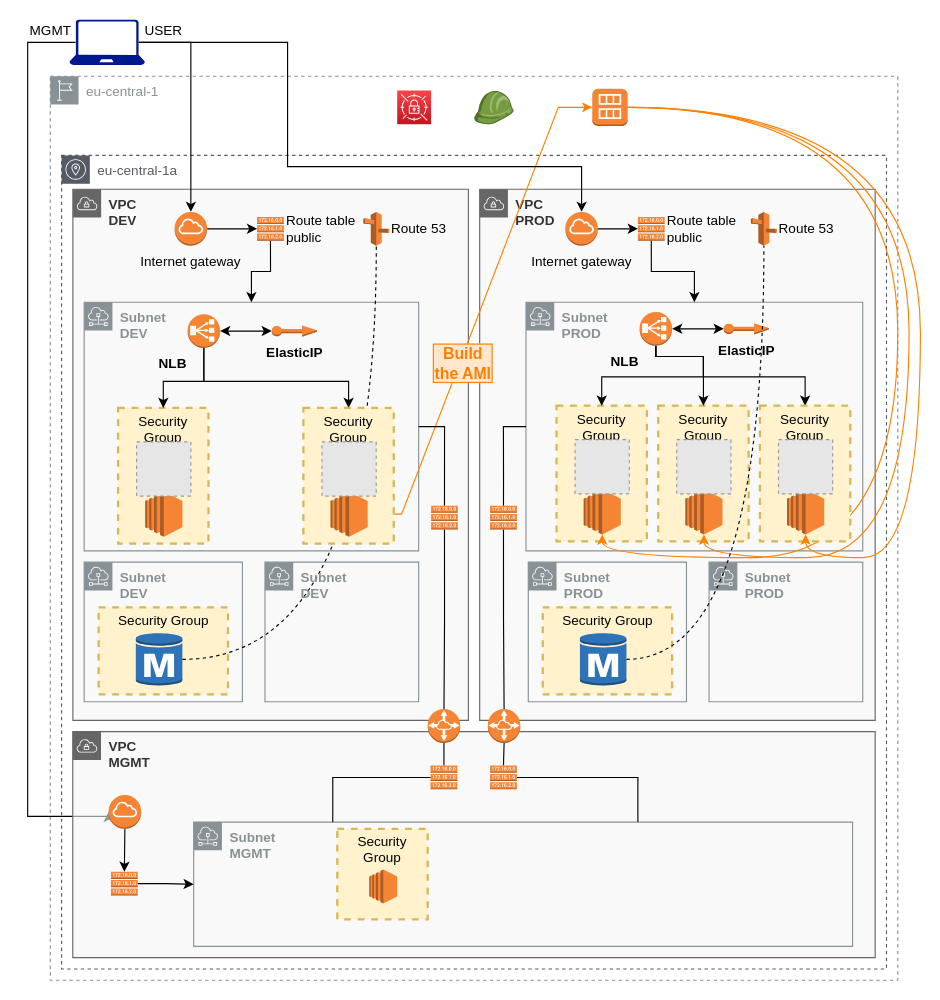
The diagram is 940 pixels wide and 1000 high, and some of its shapes have lost their labels. Grey dashed boxes stand in for pictures. The shapes that lost their labels are listed below. From the top down, each one's centre as x and y in pixels, then its label:
At point (413, 106): "db secrets".
At point (493, 107): "IAM role".
At point (609, 107): "AMI".
